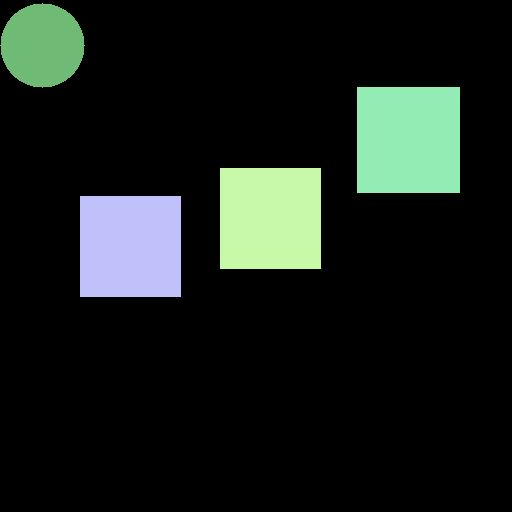circle: (0, 3, 84, 87)
square: (357, 87, 459, 192), (80, 196, 180, 296), (220, 168, 320, 268)
